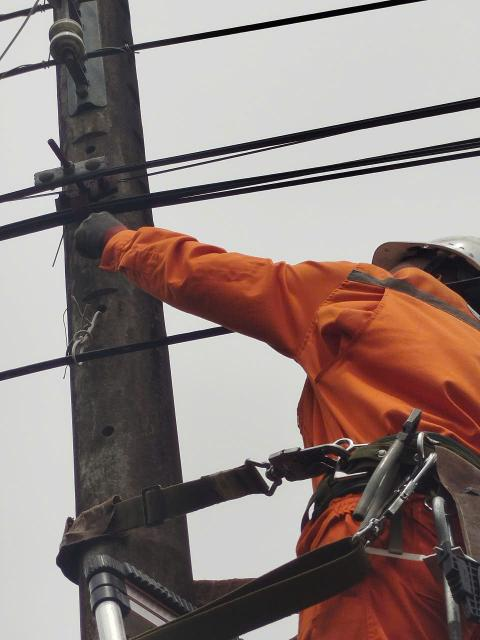gloves: (64, 203, 149, 284)
harness: (129, 407, 480, 609)
helmet: (354, 200, 480, 330)
